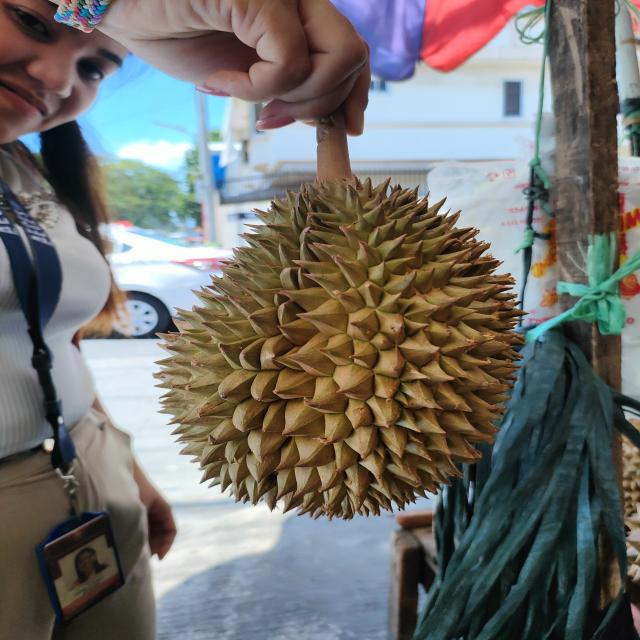mature: (150, 173, 534, 522)
